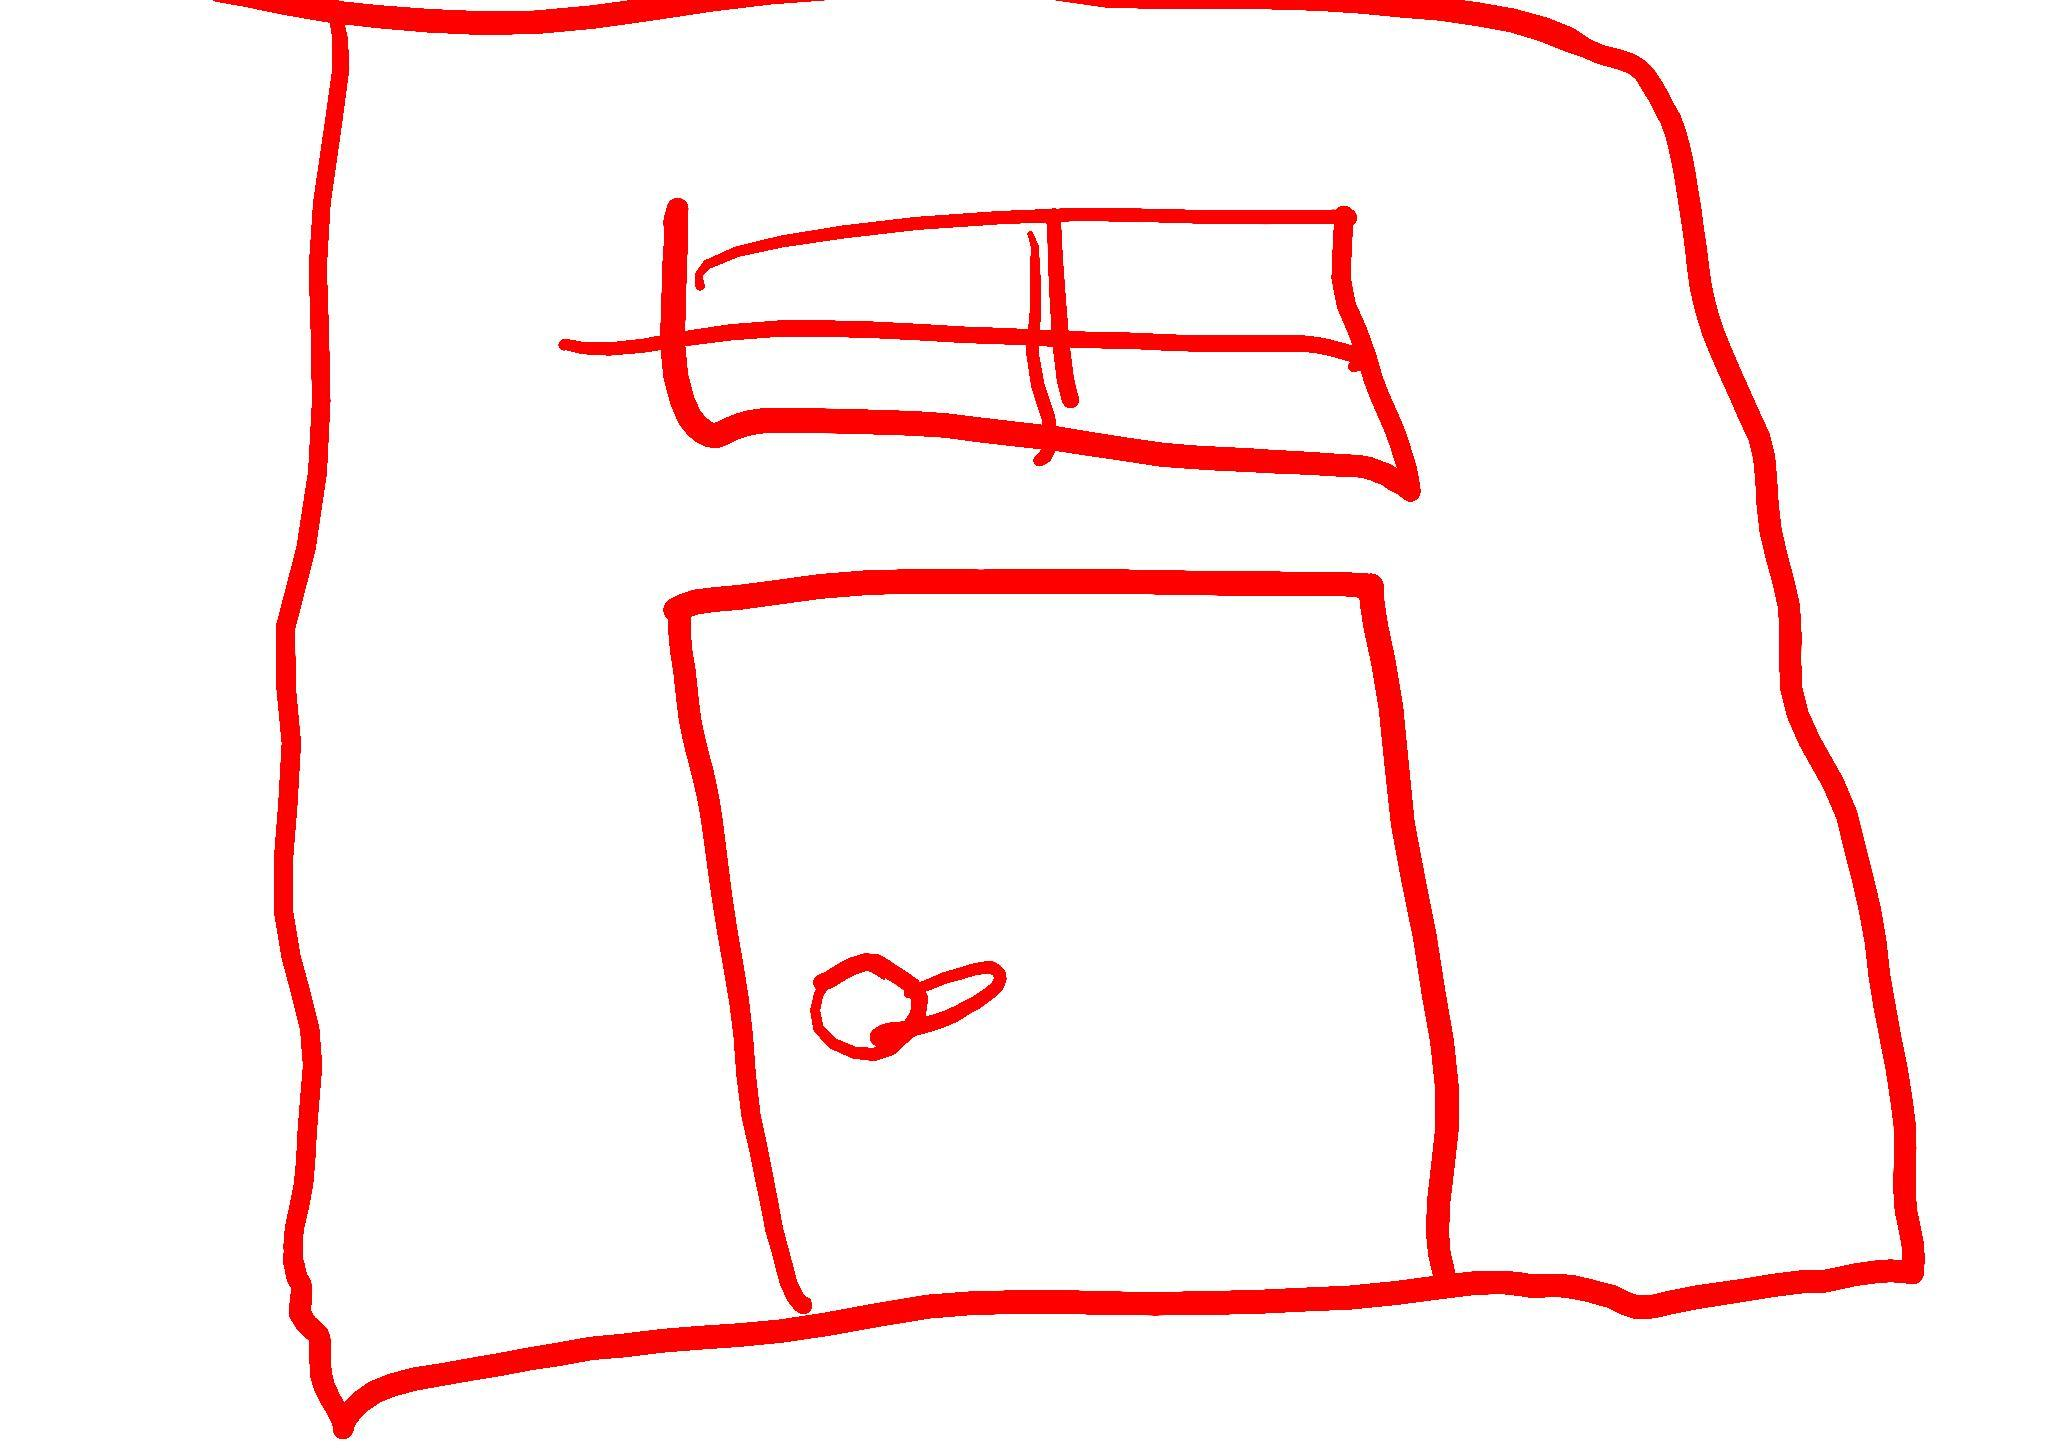door: (648, 555, 1483, 1305)
house: (246, 0, 1948, 1449)
wall: (303, 0, 1869, 1427)
window: (652, 149, 1407, 480)
